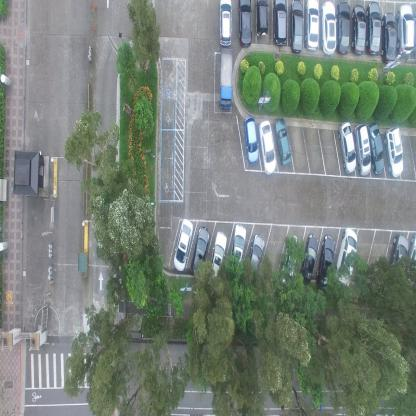car: (335, 227, 357, 288), (172, 216, 192, 272), (337, 120, 357, 175), (280, 235, 301, 286), (353, 121, 372, 177), (316, 233, 335, 288), (190, 225, 210, 277), (384, 125, 404, 177), (258, 119, 276, 175), (227, 223, 246, 276), (388, 234, 408, 284), (366, 121, 384, 174), (300, 233, 318, 285), (245, 234, 264, 283), (321, 0, 337, 57), (365, 0, 381, 57), (219, 47, 233, 112), (398, 2, 414, 57), (273, 118, 291, 166), (289, 0, 304, 55), (382, 10, 397, 64), (337, 0, 351, 56), (210, 230, 227, 276), (305, 0, 320, 52), (243, 116, 259, 164), (217, 0, 233, 48), (352, 3, 366, 56), (238, 0, 252, 50), (273, 0, 287, 49), (254, 0, 269, 39), (405, 234, 416, 283)
